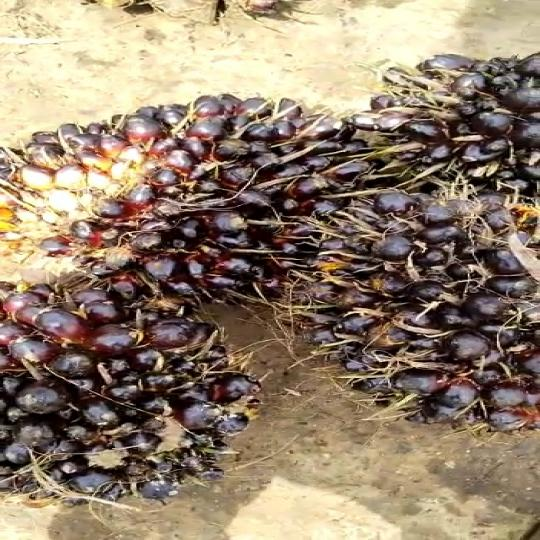mentah: (0, 68, 326, 507), (341, 53, 540, 435)
